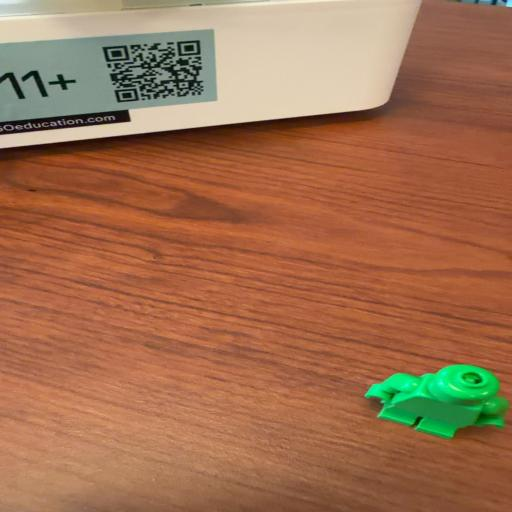UnoQ-minifig-detector: (365, 364, 509, 439)
